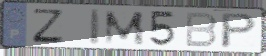5: (148, 10, 178, 48)
B: (184, 11, 219, 49)
I: (89, 9, 103, 47)
M: (104, 10, 147, 47)
P: (219, 12, 259, 50)
Z: (30, 7, 65, 44)
